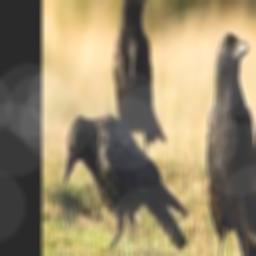Crow: (64, 113, 188, 252), (206, 32, 256, 256), (114, 0, 166, 158)
